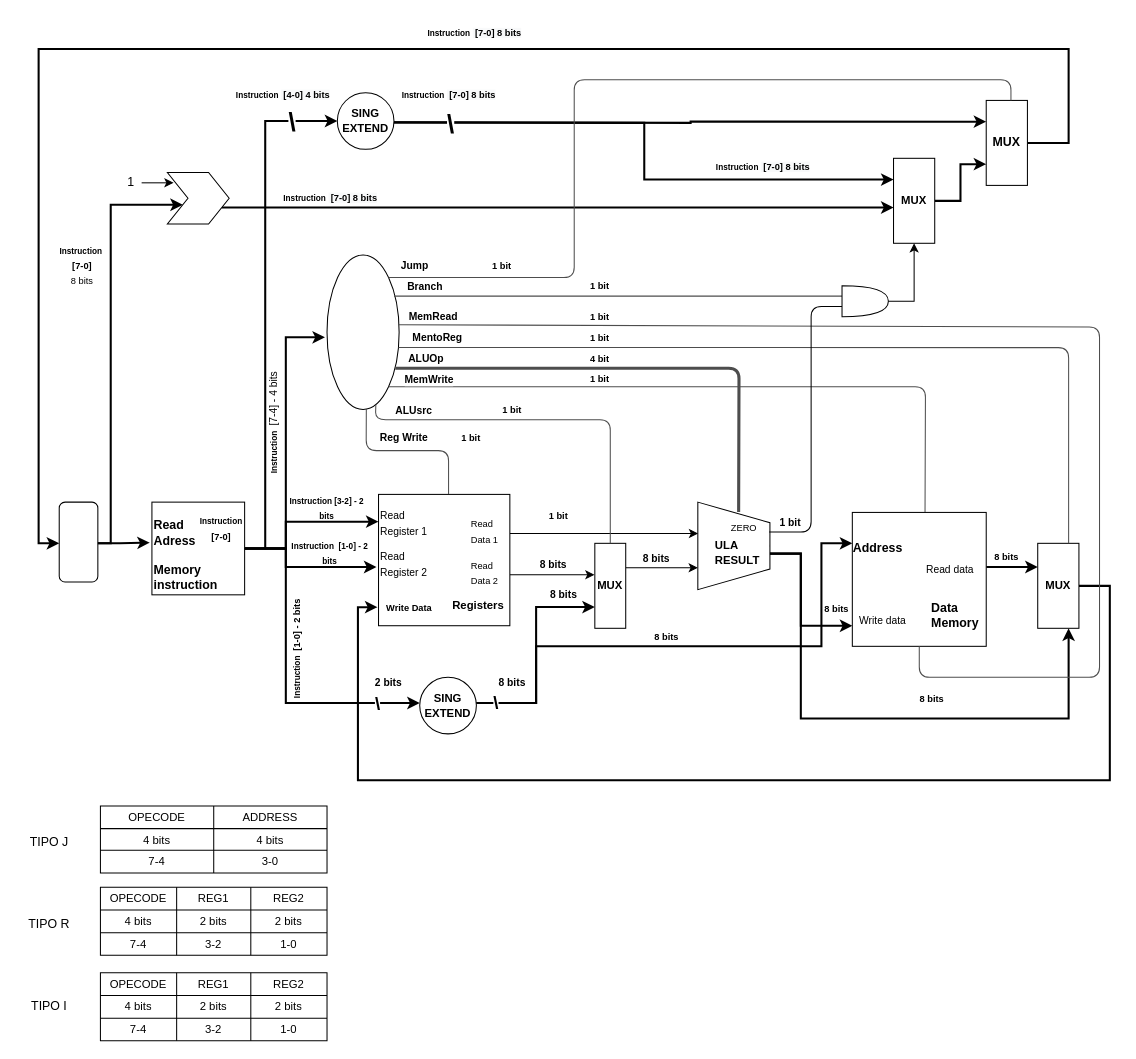
Some shapes in this 1136 by 1059 pixel diagram are drawn without their labels. The shapes that lost their labels are listed below. From the top down, each one's centre as x and y in pixels, then its label:
point 197,197: ADD
point 362,331: CONTROL
point 78,541: PC
